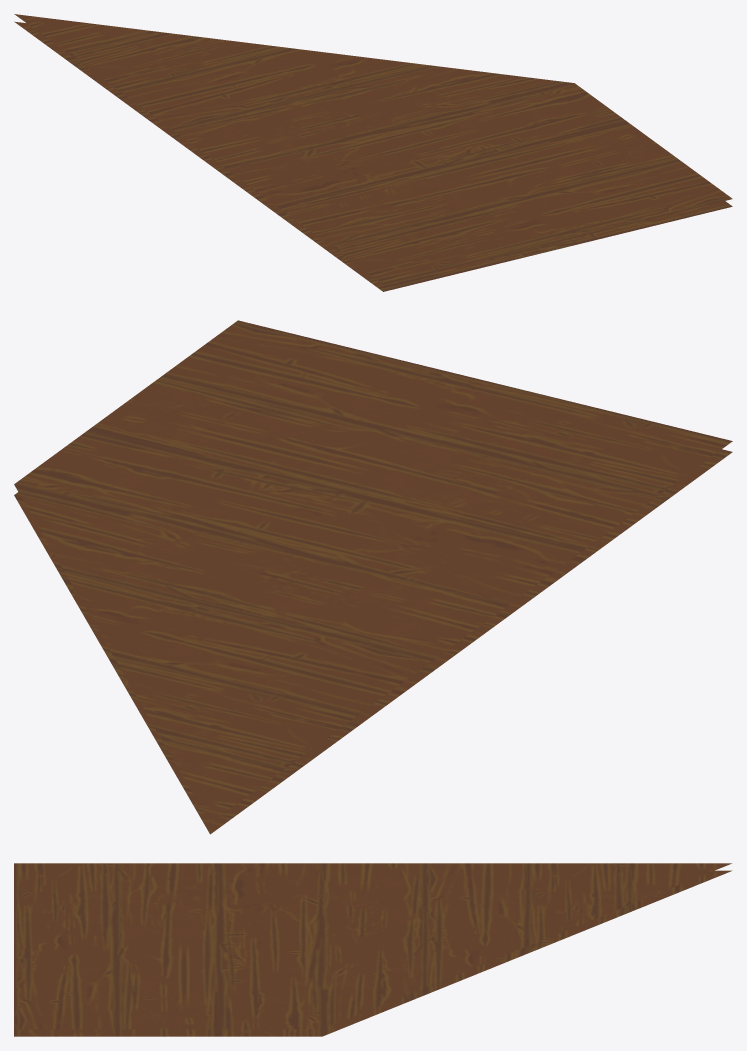
Rendered from Floor_WoodDark_OverhangCorner2.obj.
3 renders of one model, top to bottom at view 1: azimuth 30°, elevation 25°; view 2: azimuth 150°, elevation 25°; view 3: azimuth 270°, elevation 25°, orthographic. The views are drawn at different scales.
Parts seen in each view (by area): view 1: Floor_WoodDark_OverhangCorner2; view 2: Floor_WoodDark_OverhangCorner2; view 3: Floor_WoodDark_OverhangCorner2.
Part boxes in pixels (box(x1,y1,x2,y2)): Floor_WoodDark_OverhangCorner2: box(14, 14, 732, 291); Floor_WoodDark_OverhangCorner2: box(14, 320, 732, 834); Floor_WoodDark_OverhangCorner2: box(14, 863, 732, 1036).
Bounding box in the file's own units: 0.9566 × 0.02 × 1.75.
